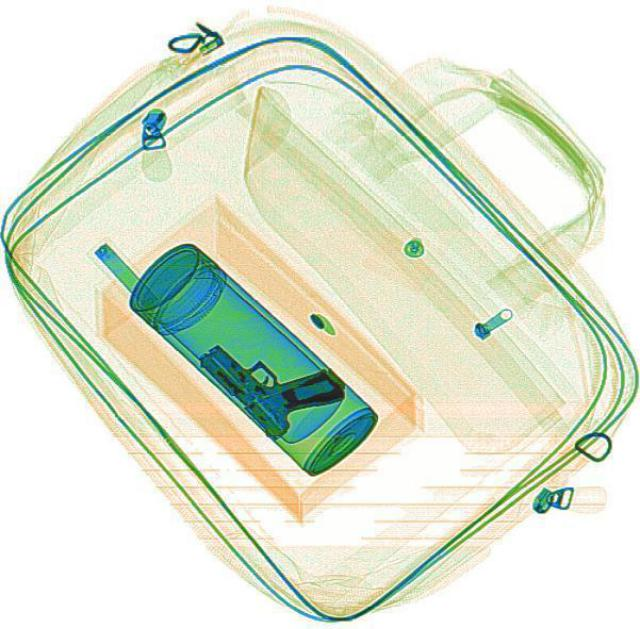Gun: (191, 304, 351, 449)
